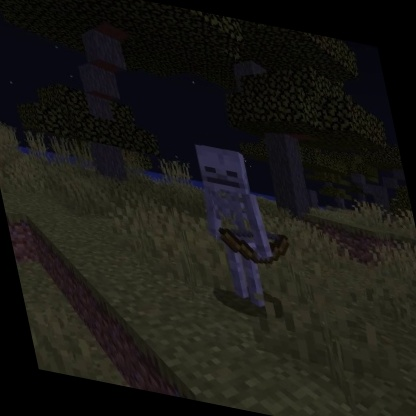skeleton: (184, 137, 307, 319)
